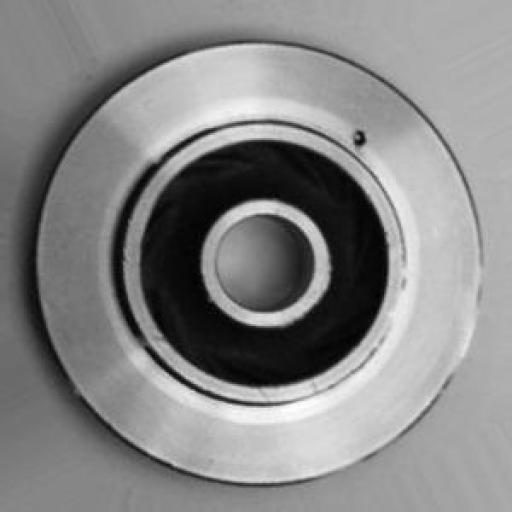defect: (312, 91, 395, 187)
